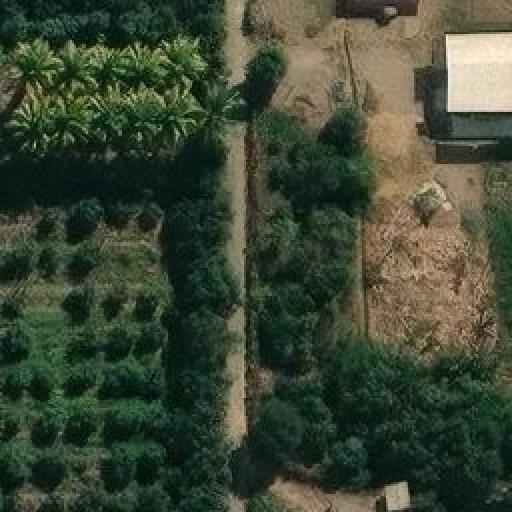manzanas: (427, 29, 510, 149)
